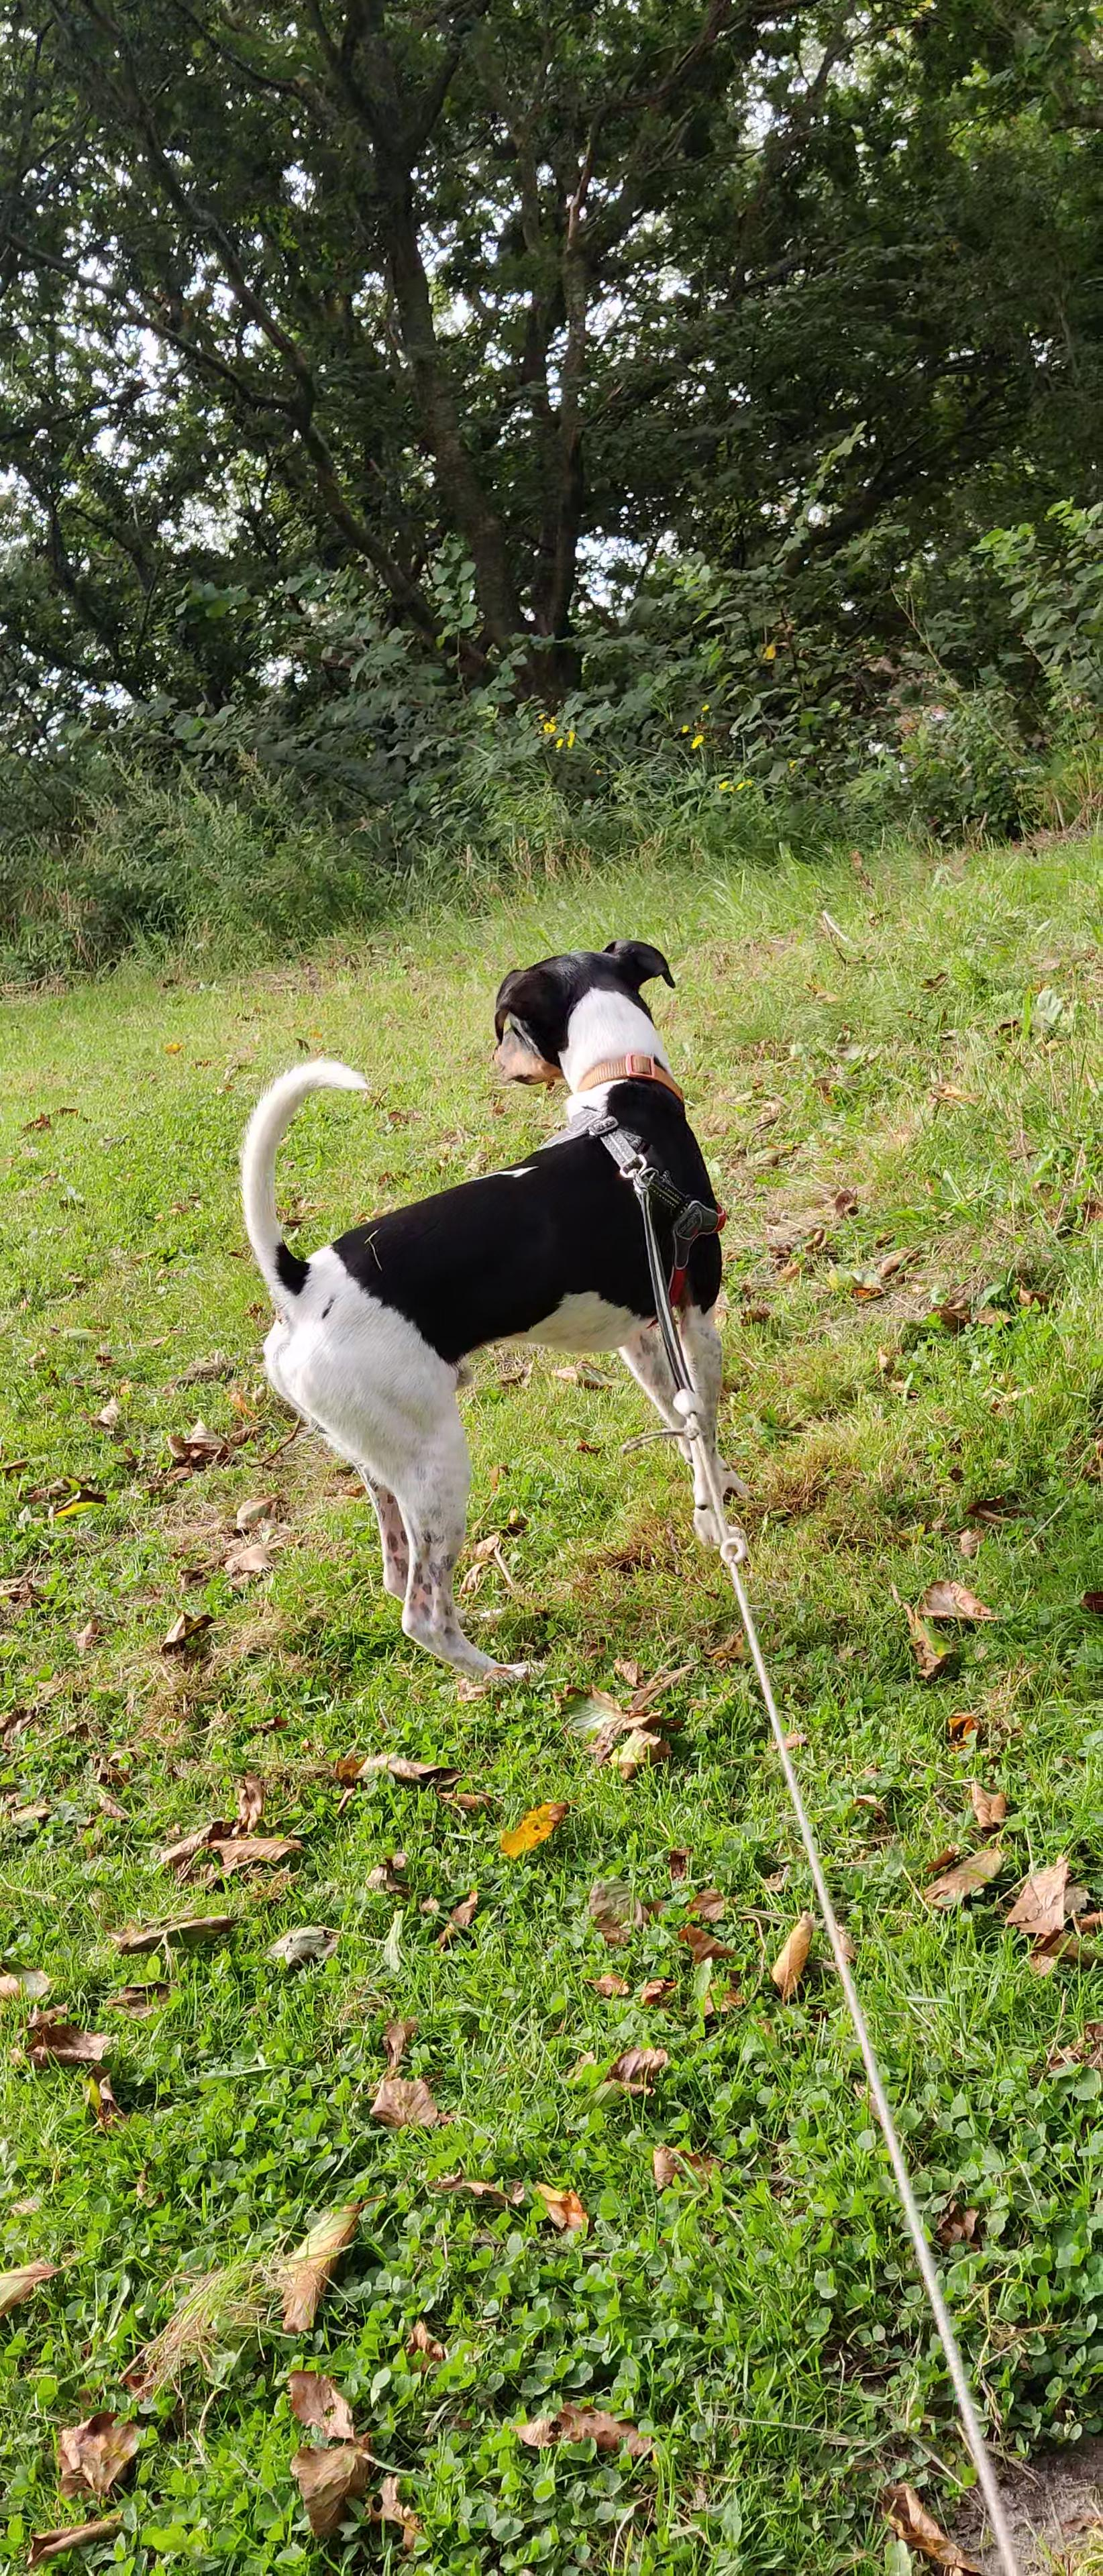Dog: (215, 931, 799, 1694)
